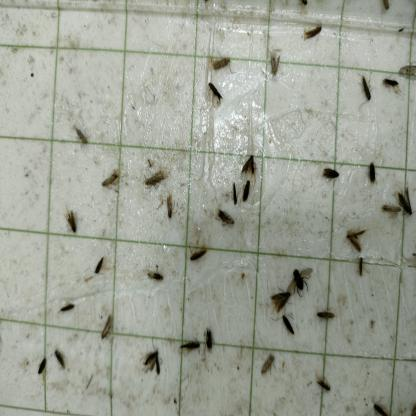prays_oleae: (394, 180, 416, 232), (139, 338, 164, 382), (234, 144, 259, 182), (344, 218, 367, 257), (269, 280, 292, 318), (301, 18, 329, 48), (206, 48, 235, 76), (398, 57, 416, 96), (382, 197, 404, 228), (186, 239, 212, 265), (314, 304, 337, 332), (364, 160, 380, 198), (381, 68, 398, 103), (358, 66, 373, 105), (140, 164, 164, 188), (177, 335, 202, 358), (27, 358, 52, 381), (260, 346, 276, 381), (313, 373, 332, 401), (72, 126, 90, 155), (280, 312, 298, 339), (62, 209, 80, 235), (99, 318, 116, 345), (267, 50, 284, 76), (241, 181, 255, 212), (216, 206, 233, 231), (352, 254, 366, 284), (149, 266, 169, 286), (206, 81, 223, 103), (94, 257, 110, 280), (55, 297, 76, 314), (368, 399, 390, 415), (324, 162, 340, 183), (163, 195, 176, 220), (53, 347, 67, 369), (230, 179, 240, 208), (99, 177, 120, 190), (203, 325, 213, 351), (381, 2, 391, 16)
